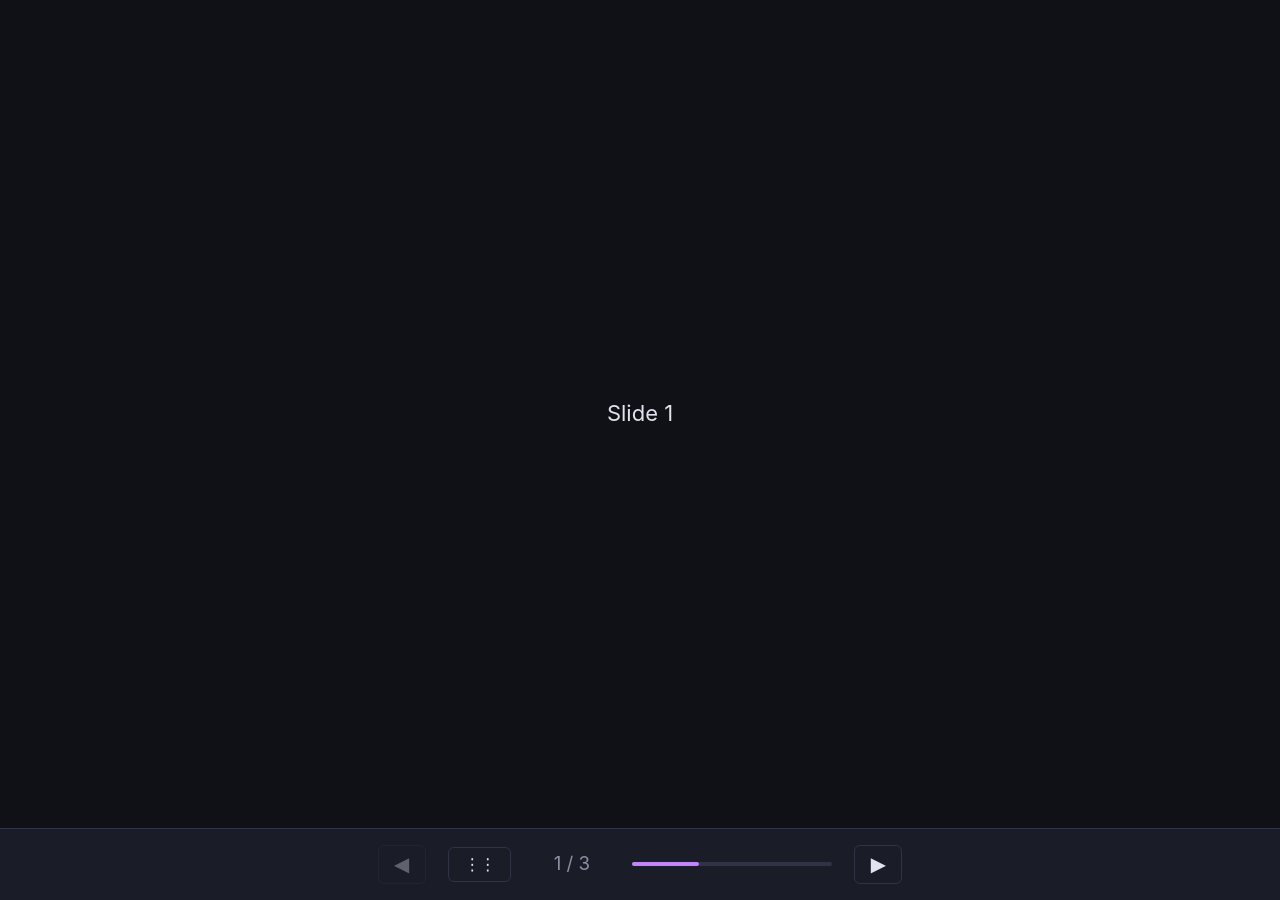
Test: SlideDeck › clicking overview item navigates and closes overview
Step 1. Press Escape
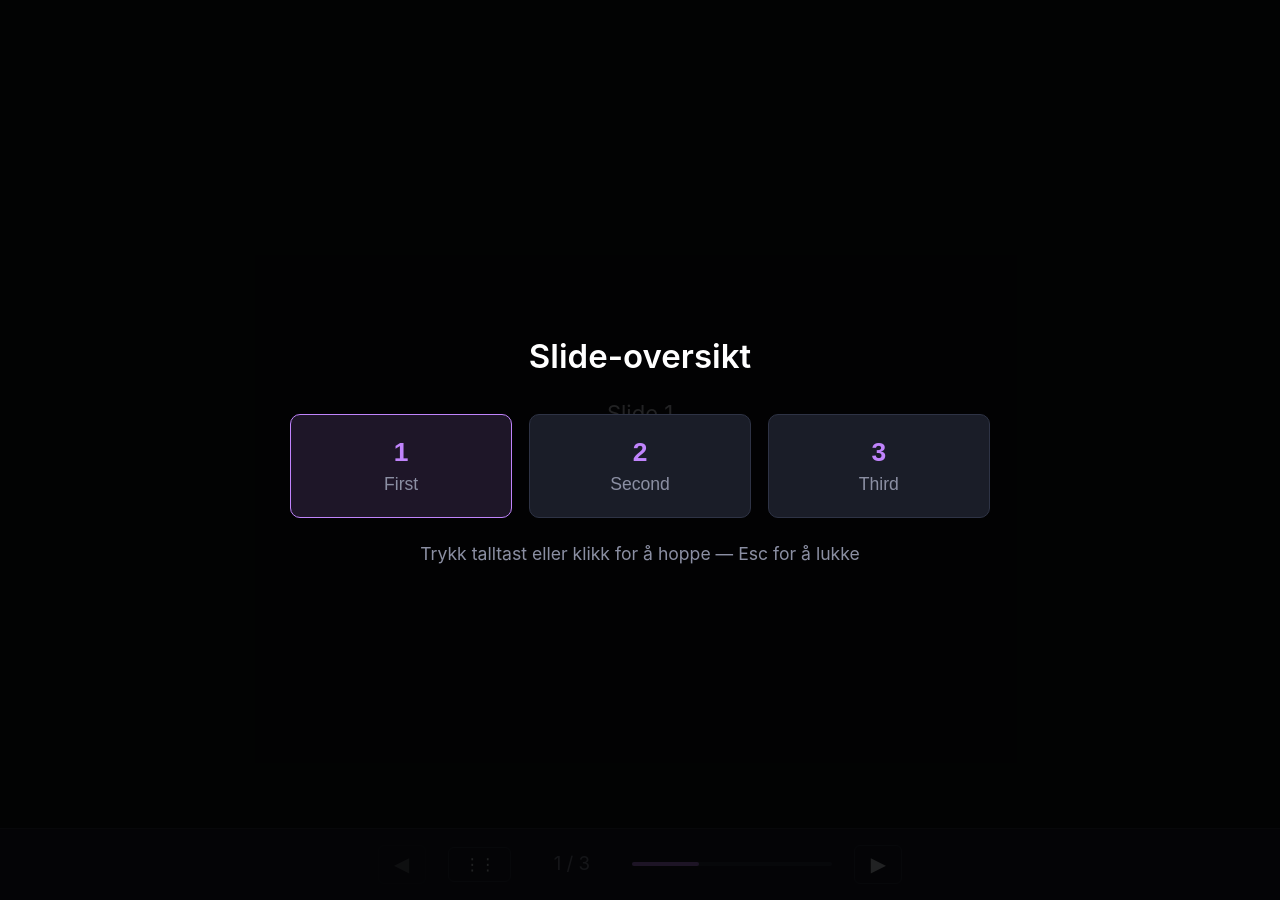
Step 2. Click the text "Third" → (879, 484), box [859,474,899,494]
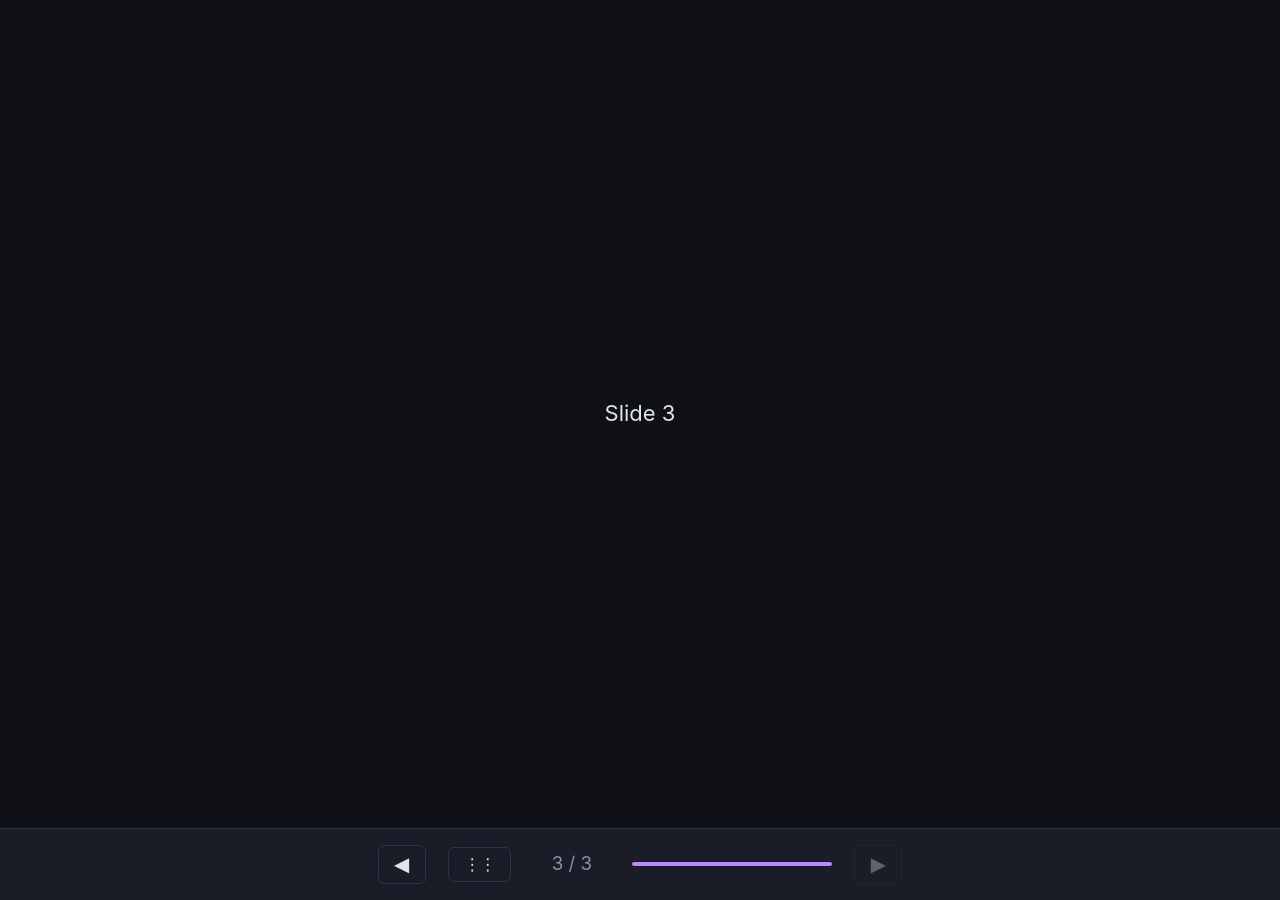
Now the text "Slide 3" is shown, box [605,397,676,430]
Now the heading "Slide-oversikt" is gone
